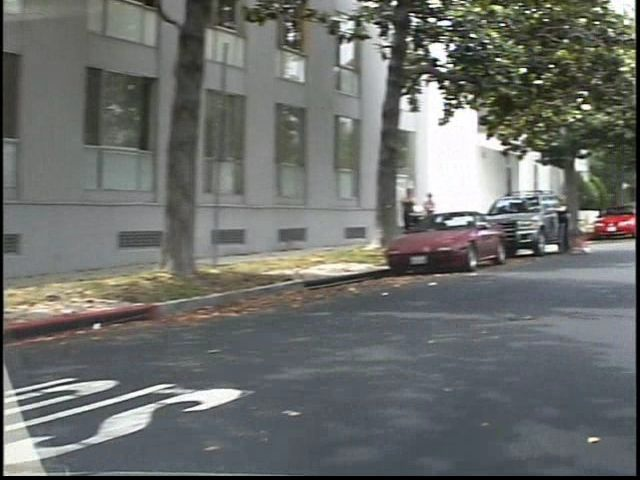person: (565, 191, 594, 259), (411, 181, 436, 247), (433, 186, 455, 242)
